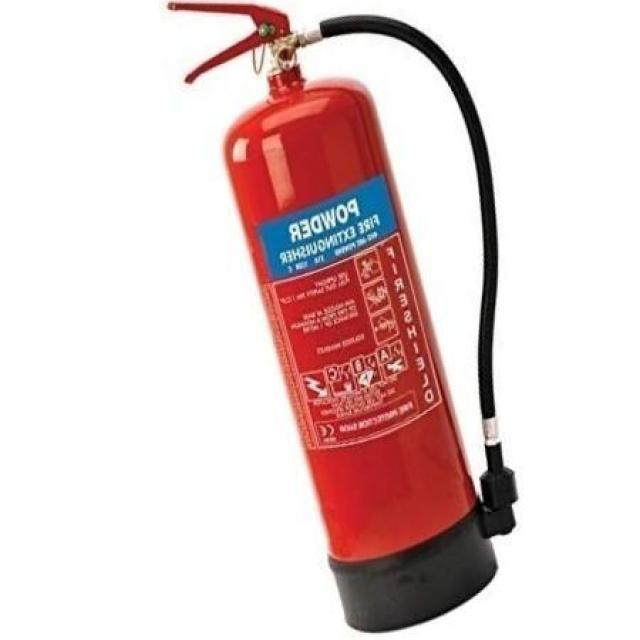fire_extinguisher: (157, 0, 523, 634)
